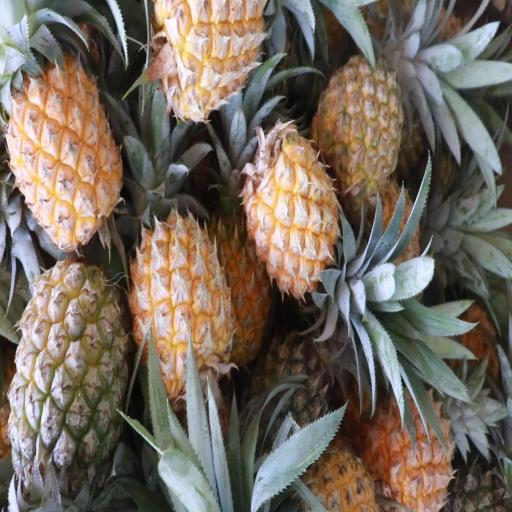------------------------------: (14, 260, 125, 488), (312, 54, 402, 197)
Pineapple - v8 v1: (12, 64, 122, 248), (131, 223, 231, 399), (244, 129, 336, 299), (156, 0, 268, 124), (369, 385, 455, 512), (209, 214, 270, 366)
